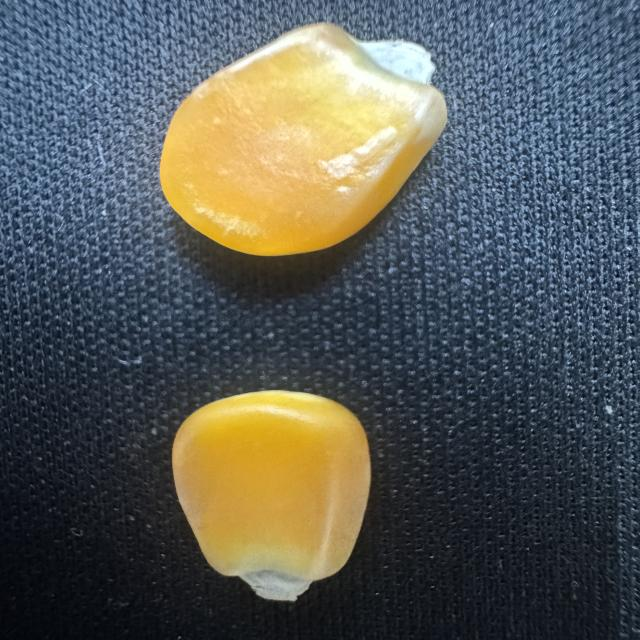Good-Seed: (154, 16, 454, 262), (168, 385, 376, 606)
